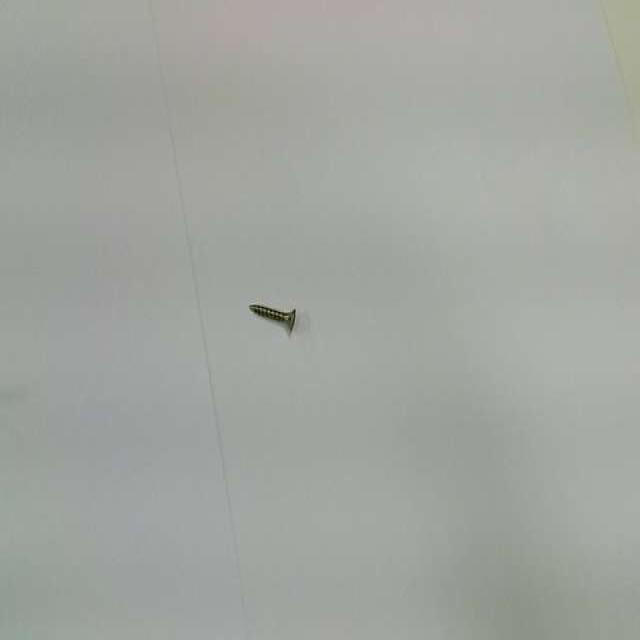Parafuso: (249, 304, 295, 331)
